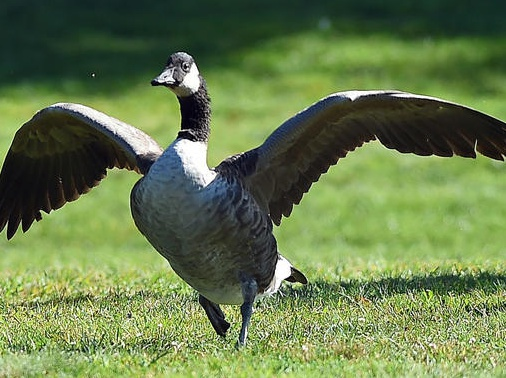goose: (2, 1, 505, 375)
